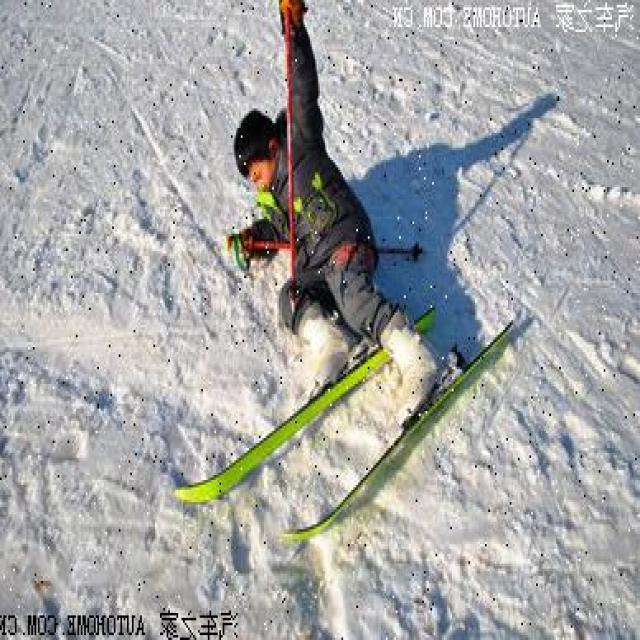fall: (232, 44, 438, 399)
